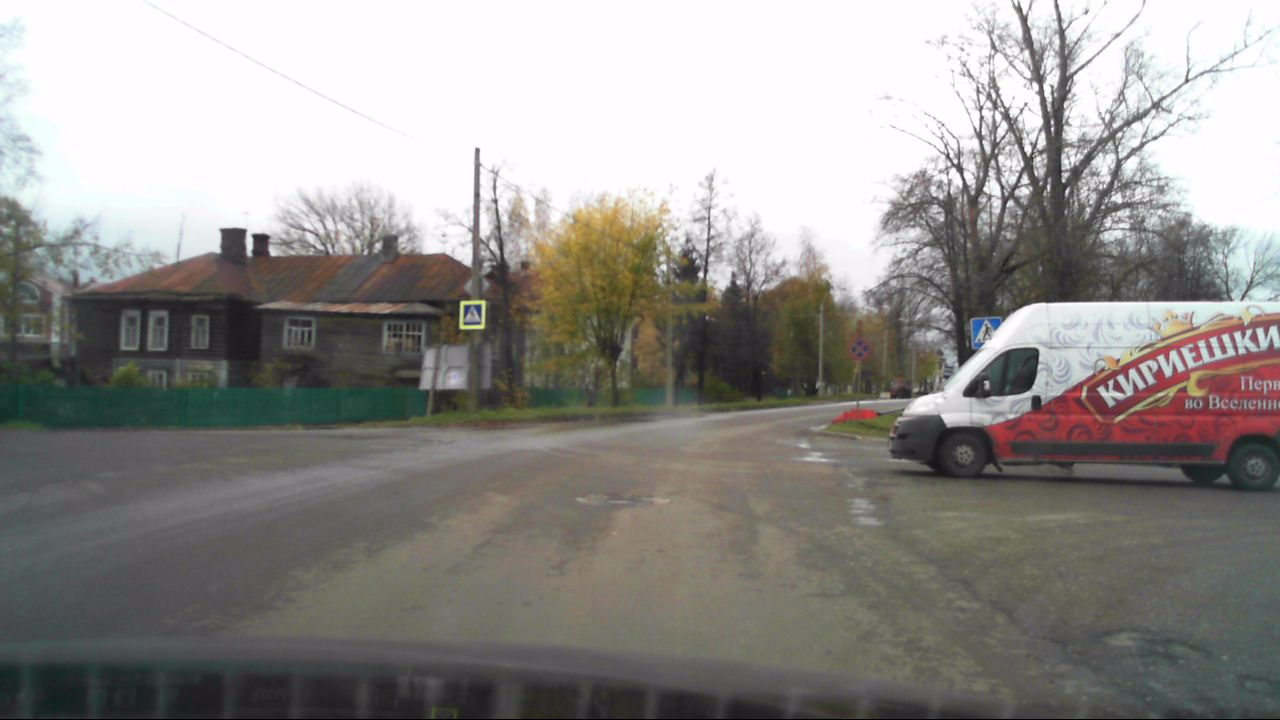No Parking: (847, 336, 870, 360)
